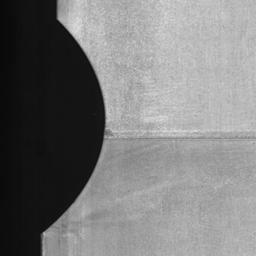Crescent gap: (44, 20, 105, 232)
